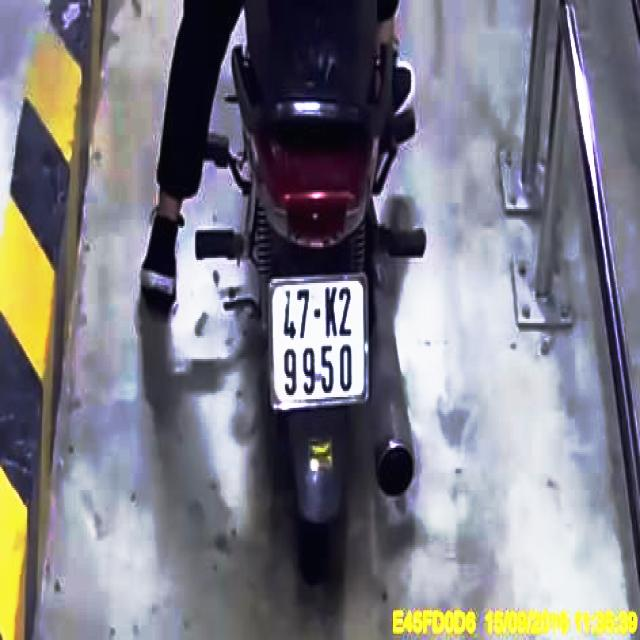license_plate: (268, 276, 371, 412)
